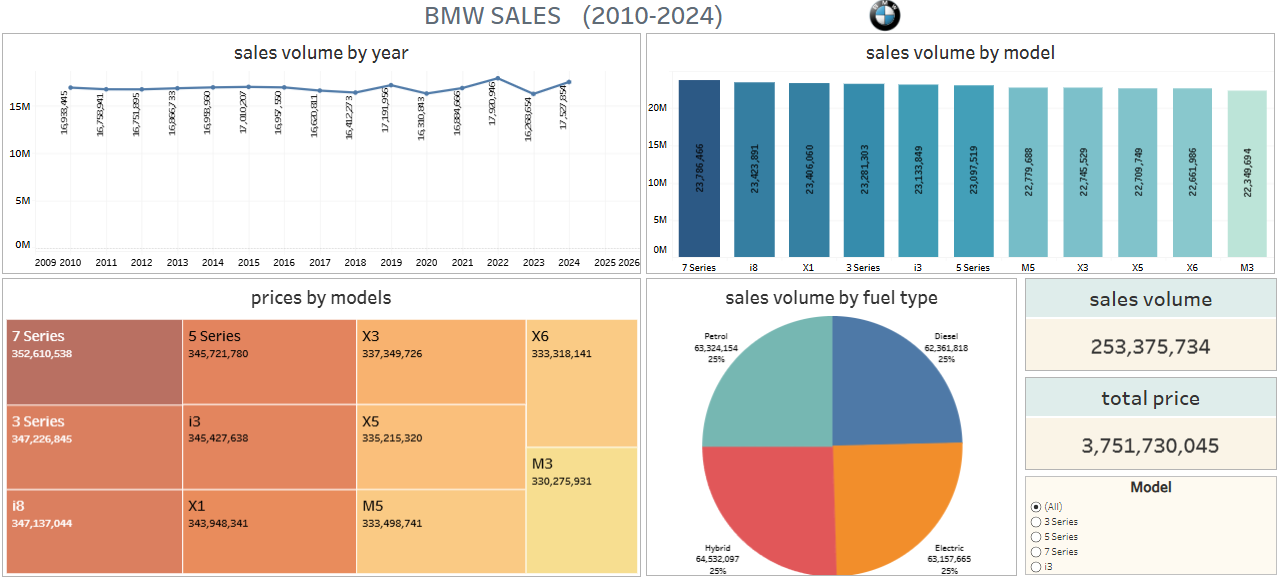

What the dashboard file says about the page in this screenshot:
{"tool":"tableau","page":{"name":"Dashboard 1","canvas":[1000,1000],"units":"permille","ordinal":0},"visuals":[{"type":"text","box":[333.6,4.1,344.4,51.1]},{"type":"image","param":"Image/BMW-Motorcycle-Logo.png","box":[668.1,4.1,41.5,53.9]},{"type":"worksheet","title":"by year","mark":"Automatic","rows":["number_of_sold_cars"],"cols":["year"],"box":[8.3,60.8,492.1,408.8]},{"type":"worksheet","title":"volume by model","mark":"Automatic","rows":["number_of_sold_cars"],"cols":["model"],"box":[504.6,60.8,484.7,408.8]},{"type":"worksheet","title":"price by model","mark":"Automatic","box":[8.3,477.9,492.1,506.9]},{"type":"worksheet","title":"by fuel type","mark":"Pie","box":[504.6,477.9,285.5,505.5]},{"type":"worksheet","title":"sales volume","mark":"Automatic","box":[795.9,477.9,194.2,157.5]},{"type":"worksheet","title":"total price","mark":"Automatic","box":[795.9,646.4,194.2,157.5]},{"type":"filter","title":"volume by model","param":"[federated.1im81bn06is9t71cxw1xe1cky3zs].[none:model:nk]","box":[796.7,812.1,193.4,168.5]}]}

Visuals, with their boxes on the dashboard's canvas, which has no fixed pixel size, in thousandths of its width and height (x1, y1, x2, y2). These are canvas units, not pixel positions in the 1279x579 screenshot, which may show the page scaled, cropped or inside an application window:
text: [x1=334, y1=4, x2=678, y2=55]
image: [x1=668, y1=4, x2=710, y2=58]
"by year" worksheet: [x1=8, y1=61, x2=500, y2=470]
"volume by model" worksheet: [x1=505, y1=61, x2=989, y2=470]
"price by model" worksheet: [x1=8, y1=478, x2=500, y2=985]
"by fuel type" worksheet (Pie marks): [x1=505, y1=478, x2=790, y2=983]
"sales volume" worksheet: [x1=796, y1=478, x2=990, y2=635]
"total price" worksheet: [x1=796, y1=646, x2=990, y2=804]
"volume by model" filter: [x1=797, y1=812, x2=990, y2=981]
